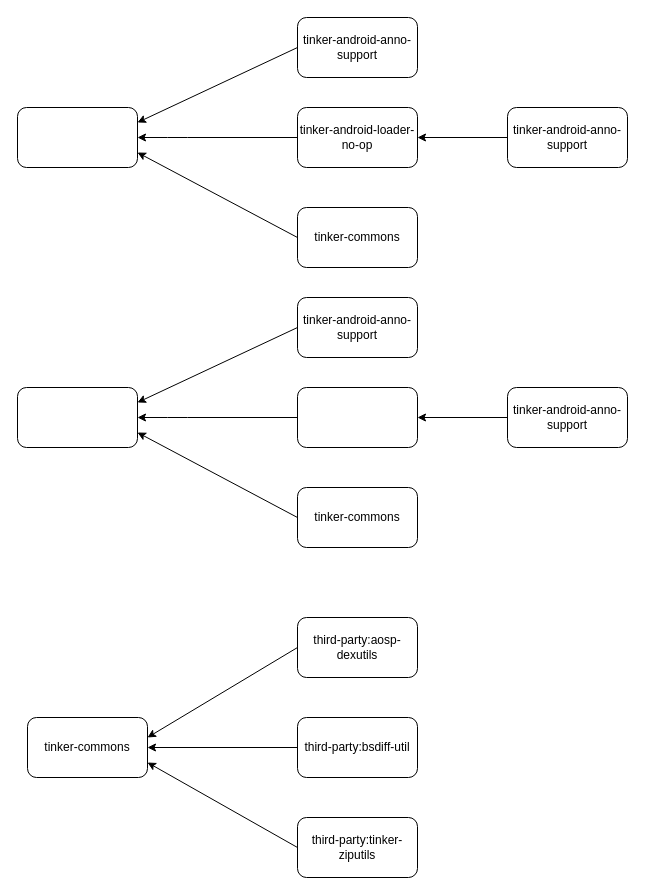
The diagram is 645 pixels wide and 895 high, and some of its shapes have lost their labels. The shapes that lost their labels are listed below. From the top down, each one's centre as x and y in pixels, then its label:
point 77,137: Tiner-android-lib-no-op
point 77,417: Tiner-android-lib
point 357,417: tinker-android-loader
